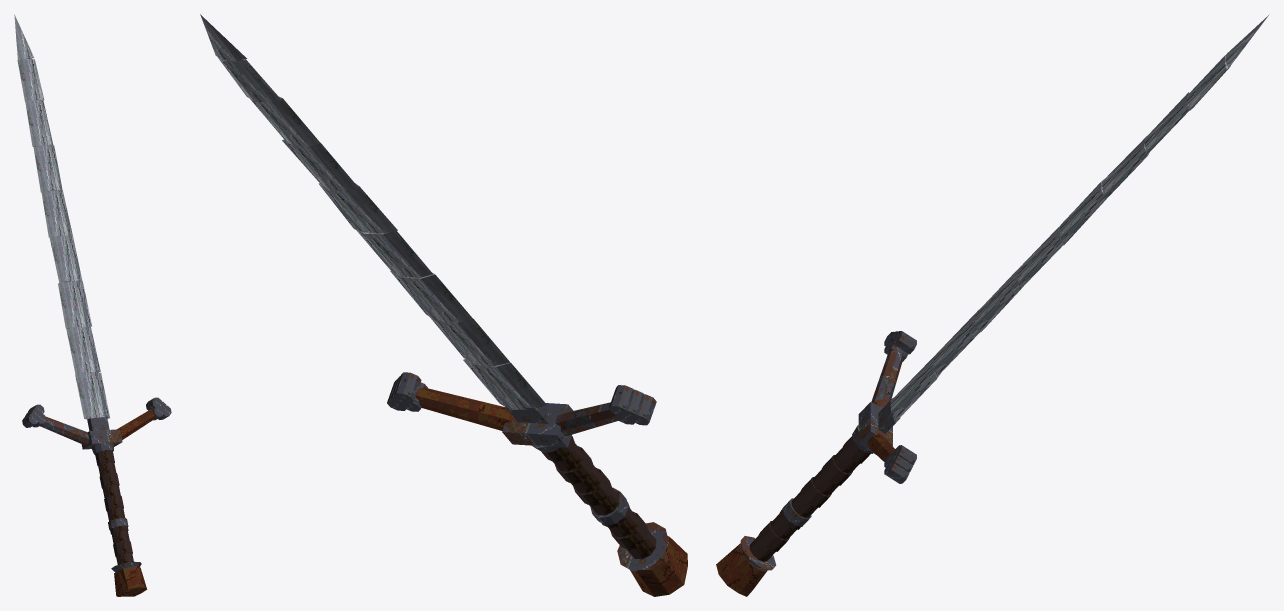
The model's file is sword.glb.
3 renders of one model, left to right at view 1: azimuth 30°, elevation 25°; view 2: azimuth 150°, elevation 25°; view 3: azimuth 270°, elevation 25°, orthographic. The views are drawn at different scales.
Parts seen in each view (by area): view 1: Sword; view 2: Sword; view 3: Sword.
Boxes of the visible parts, <box> form: Sword: <box>14,14,171,596</box>; Sword: <box>200,14,687,596</box>; Sword: <box>716,14,1269,596</box>.
Bounding box in the file's own units: 0.4205 × 1.21 × 0.9732.
1 material, 1 textured.
